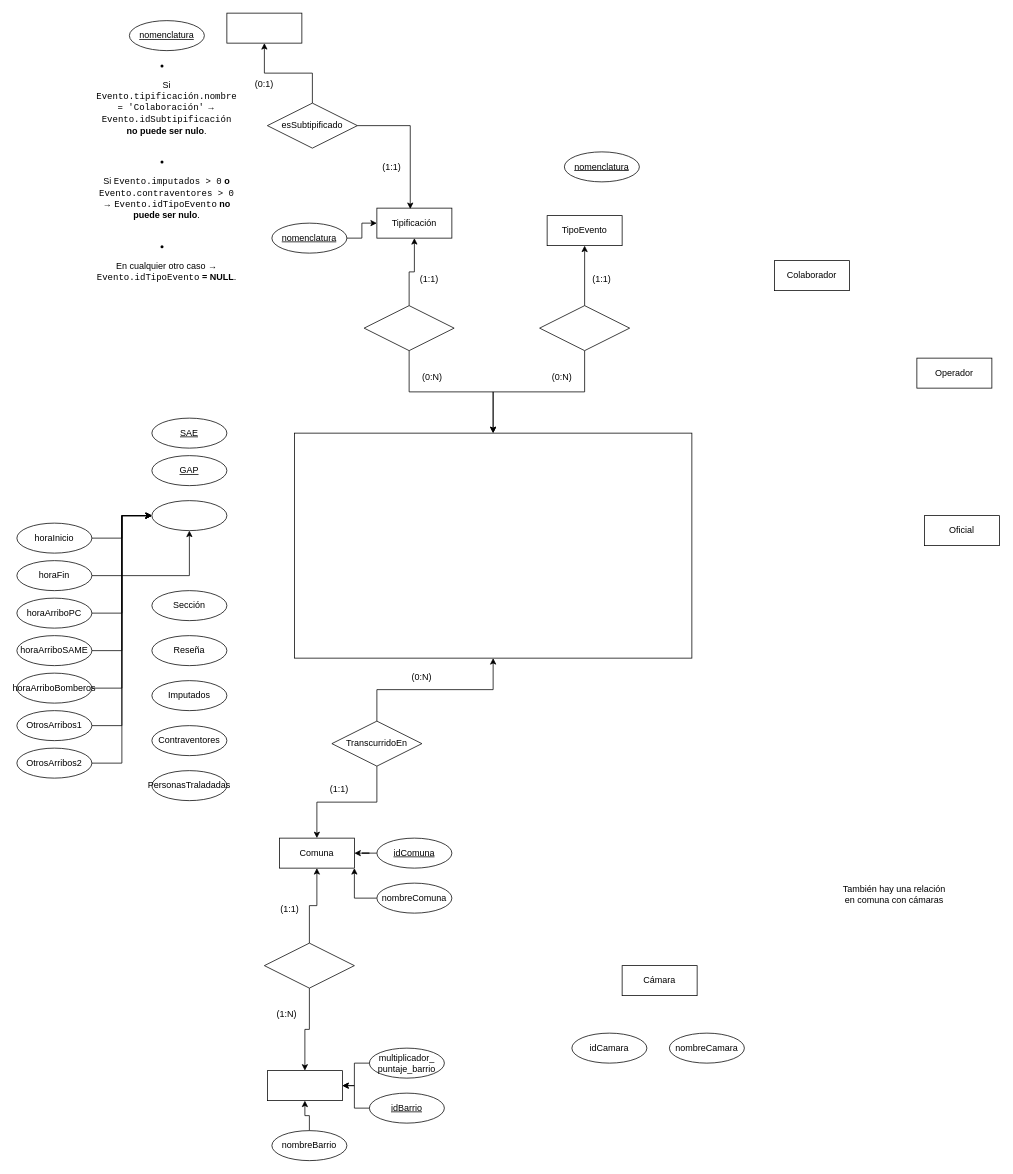
Image size: 1013x1174. Some labels were removed from this diagram. Here are the shapes that lost their labels. From the top down, the box of each, then its label:
(226, 12, 302, 43): Subtipificación
(363, 305, 454, 351): esTipificado
(539, 305, 630, 351): esCategorizado
(151, 500, 227, 531): Horarios
(294, 432, 692, 658): Evento
(264, 942, 354, 988): Pertenece
(267, 1070, 342, 1101): Barrio
